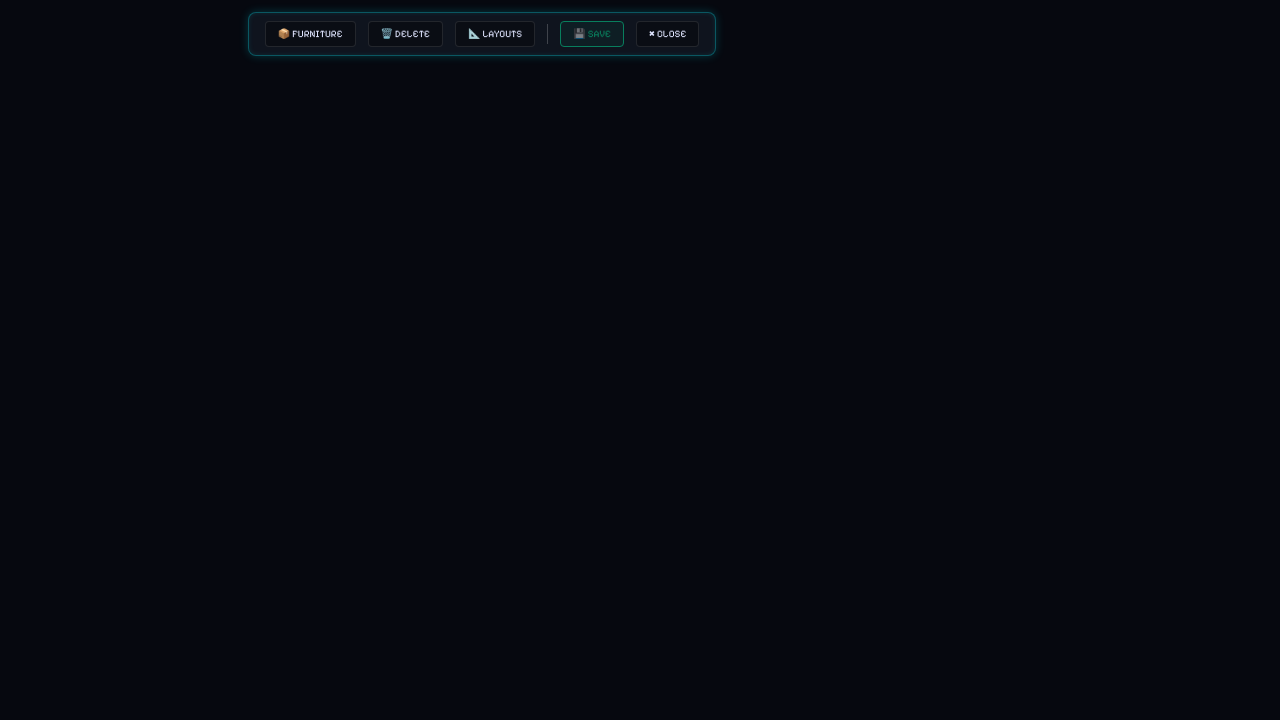
Scenario: Issue #109 — delete confirmation guard › opens a confirmation dialog containing the layout name when Delete is clicked
What coordinates should you click on to do the following:
click the button titled "Layout manager"
I would click on:
 (495, 34)
Its box is [455,21,535,47].
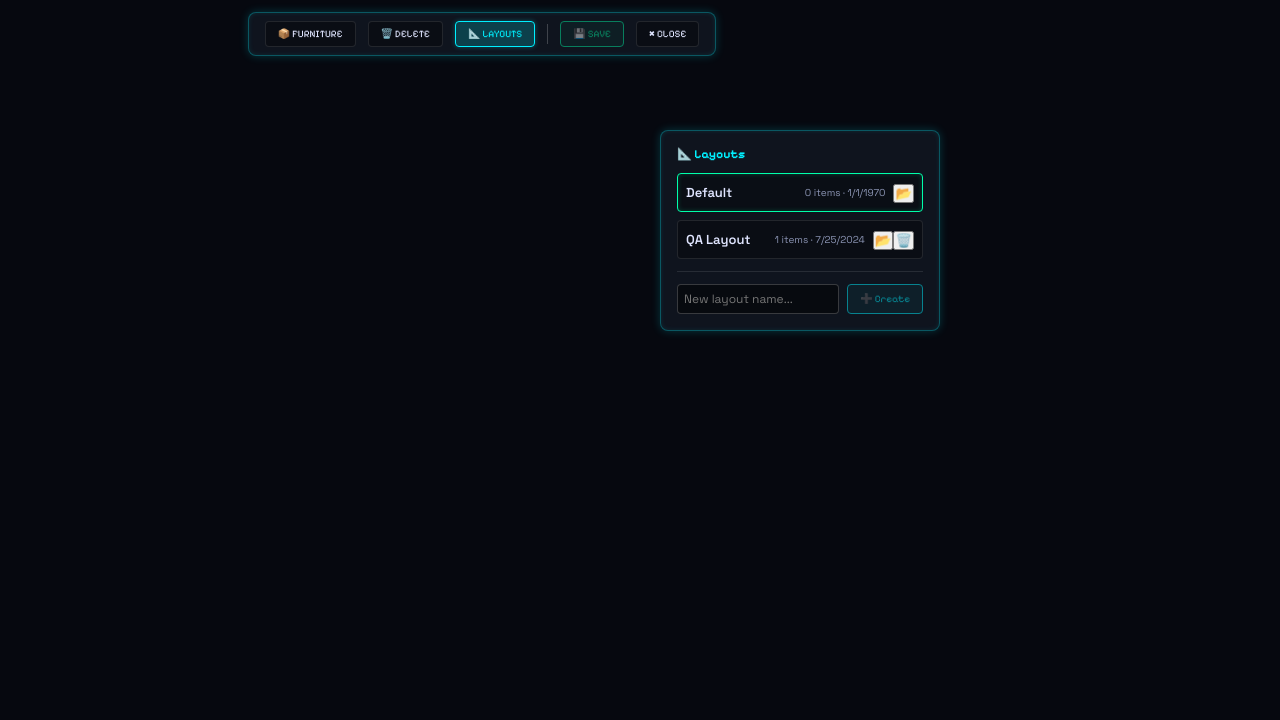
What coordinates should you click on to do the following:
click the button named "Delete QA Layout"
I would click on:
 (904, 240)
Its box is [893,231,914,250].
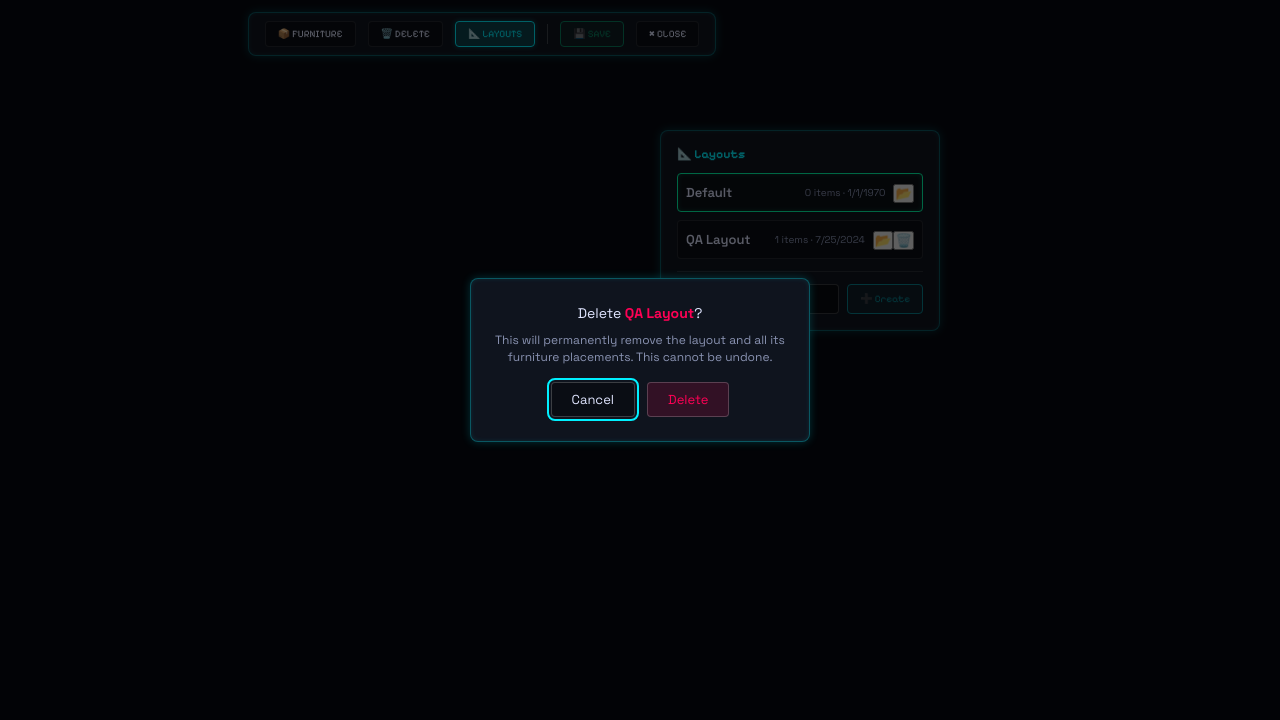
Check: the dialog shows "QA Layout", box [625,304,694,322]
Check: the dialog shows "cannot be undone", box [495,332,785,365]
